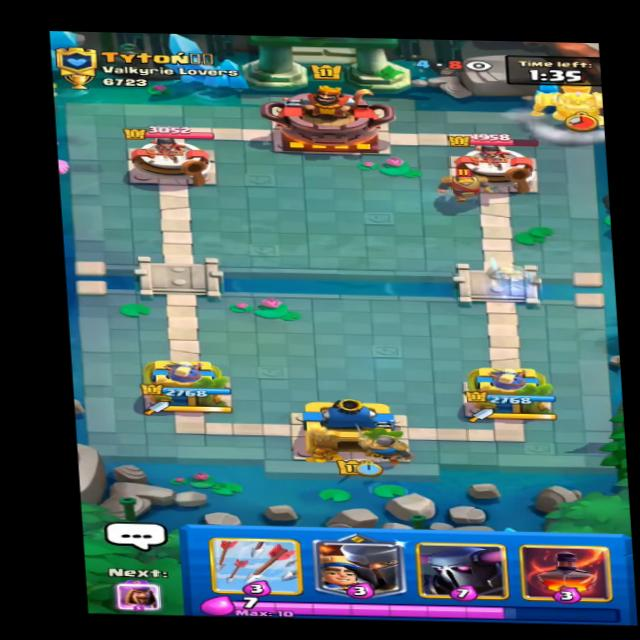goblin-machine: (522, 75, 612, 135)
knight: (425, 166, 500, 202)
